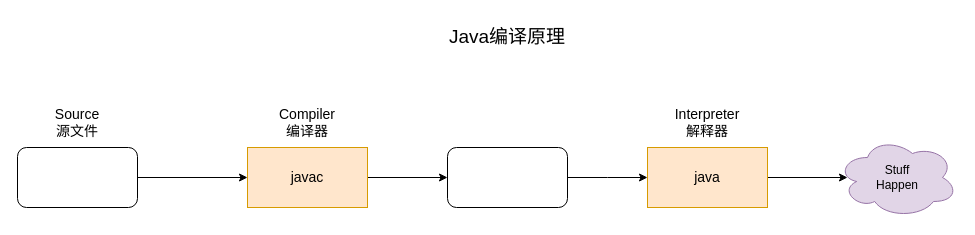
Image size: 975x235. Some labels were removed from this diagram. Each missing label, with the centre of its shape:
.class文件: the point at 507,177
.java文件: the point at 77,177
